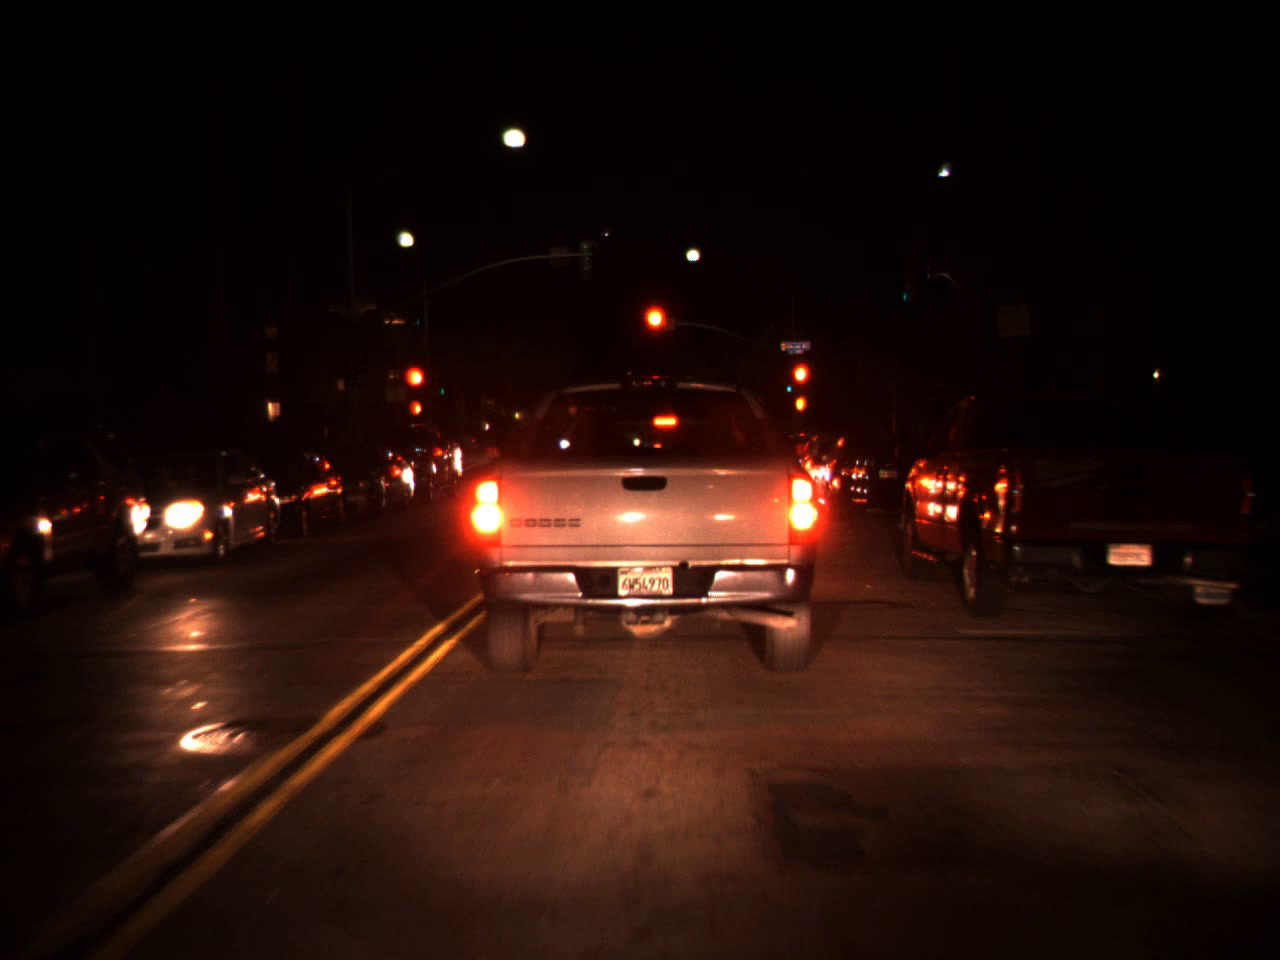stop: (641, 301, 671, 363), (402, 363, 427, 411), (790, 359, 812, 413)
